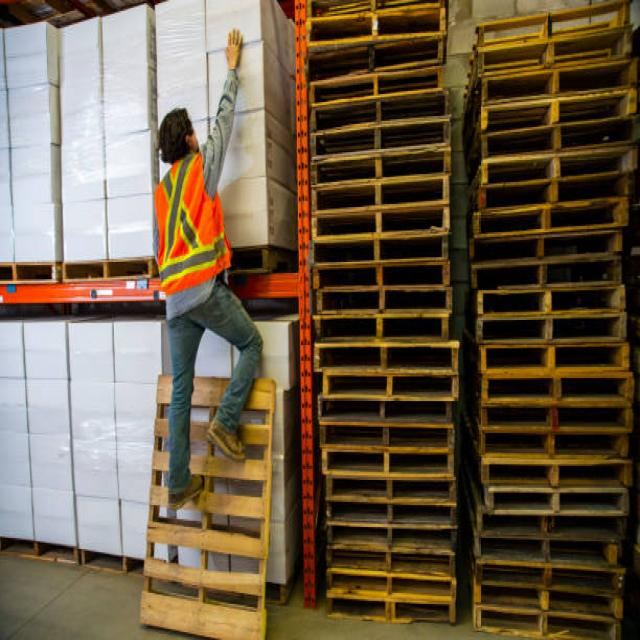Wooden-Pallets: (469, 18, 630, 78), (470, 562, 624, 622), (471, 368, 639, 411), (474, 449, 630, 495), (323, 556, 466, 605), (310, 387, 458, 432), (308, 255, 455, 297), (471, 599, 619, 639), (472, 525, 622, 563), (302, 140, 451, 178), (476, 281, 626, 318), (476, 102, 639, 136), (307, 344, 459, 379), (464, 208, 635, 237), (320, 491, 463, 524), (320, 446, 454, 478), (304, 205, 456, 231), (305, 76, 449, 100)
